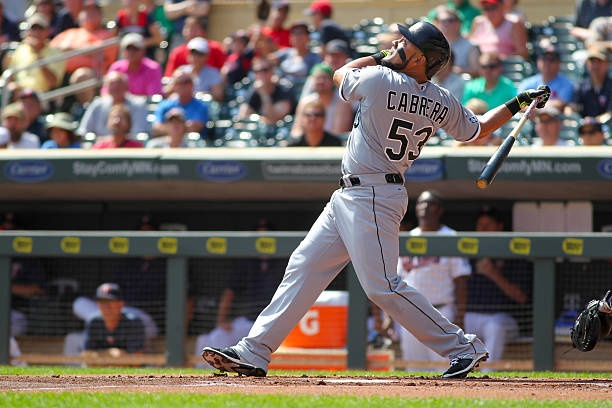bita: (475, 92, 542, 188)
